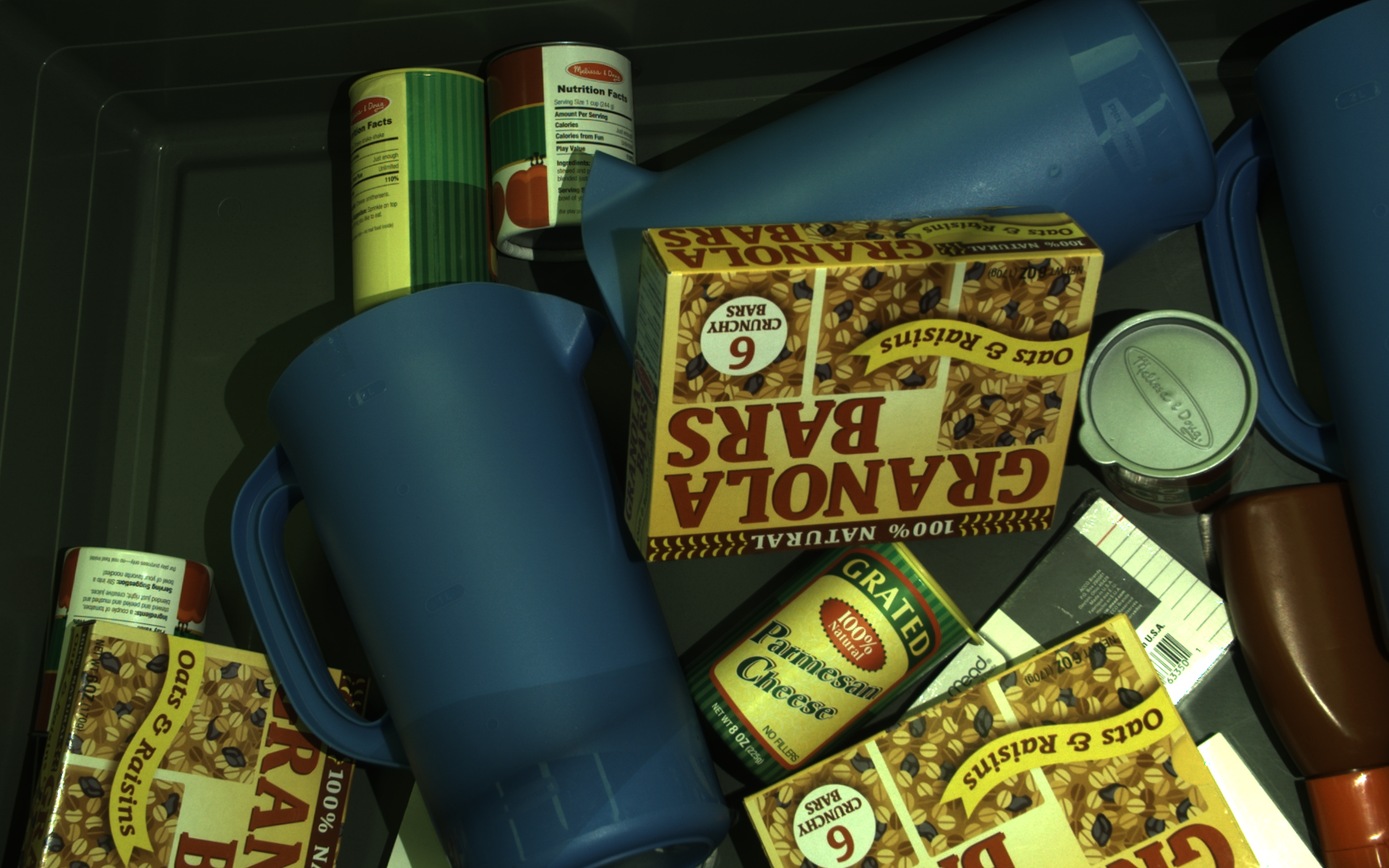defect: (369, 655, 694, 868), (832, 205, 1078, 372)
